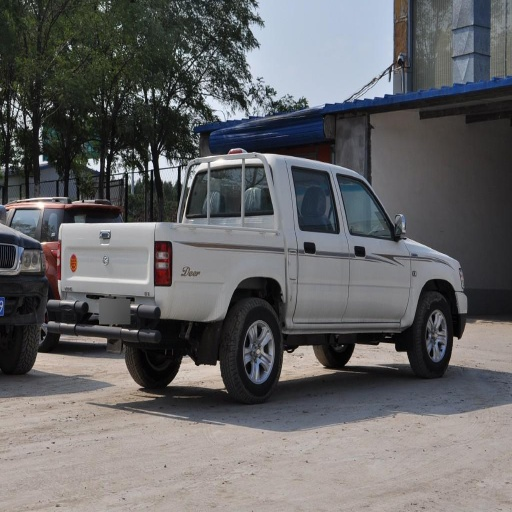back_right_door: (291, 162, 349, 317)
trunk: (81, 221, 299, 329)
